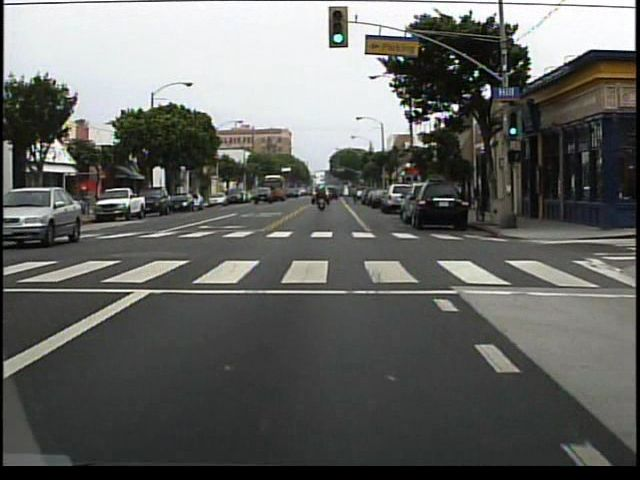car: (2, 186, 80, 247), (408, 175, 469, 230), (91, 184, 142, 217)
strada: (2, 314, 640, 465)
striscie pedonali: (8, 258, 633, 293), (89, 227, 494, 241)
